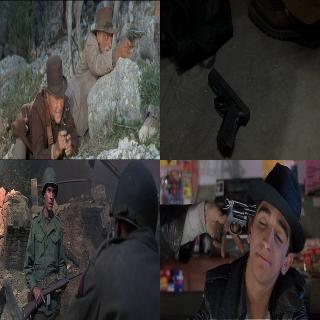gun: (207, 66, 250, 158), (20, 270, 82, 320), (213, 195, 256, 242), (123, 28, 147, 58), (60, 97, 70, 151)
